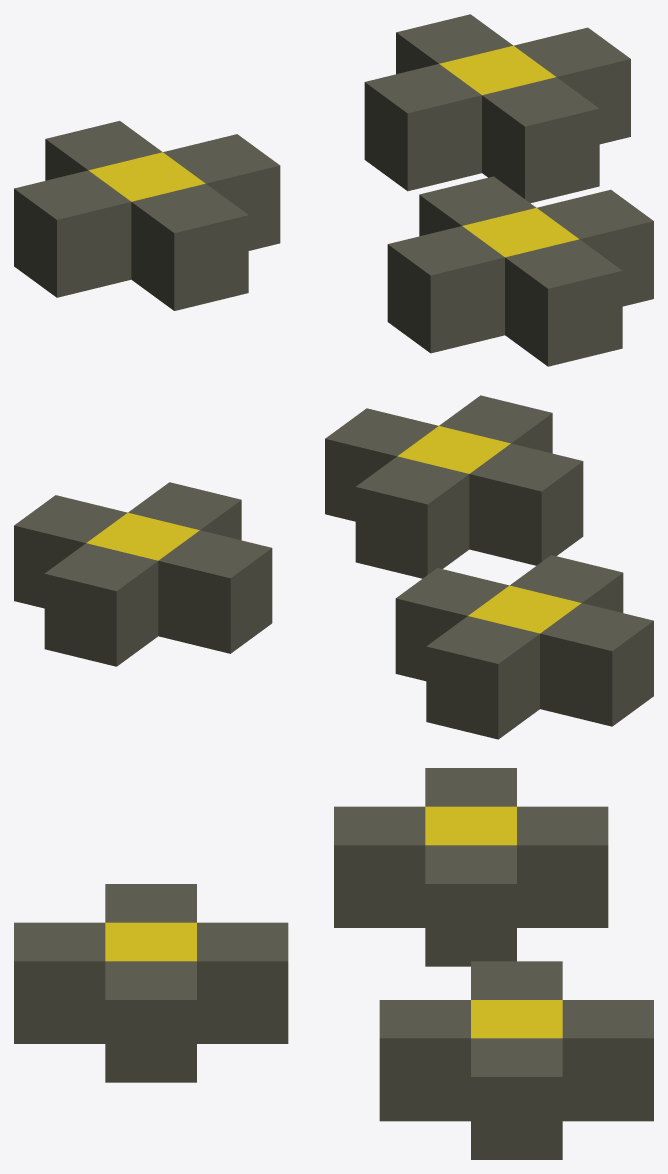
Rendered from ColoredFlowers.fbx.
3 renders of one model, top to bottom at view 1: azimuth 30°, elevation 25°; view 2: azimuth 150°, elevation 25°; view 3: azimuth 270°, elevation 25°, orthographic. The views are drawn at different scales.
Visible parts, largest first — view 1: Flowers; view 2: Flowers; view 3: Flowers.
Boxes of the visible parts, left/top/right/bottom form: Flowers: left=14, top=14, right=653, bottom=366; Flowers: left=14, top=395, right=653, bottom=739; Flowers: left=14, top=768, right=653, bottom=1159.
Size of the model in its own units: 100 by 12.5 by 87.5.
